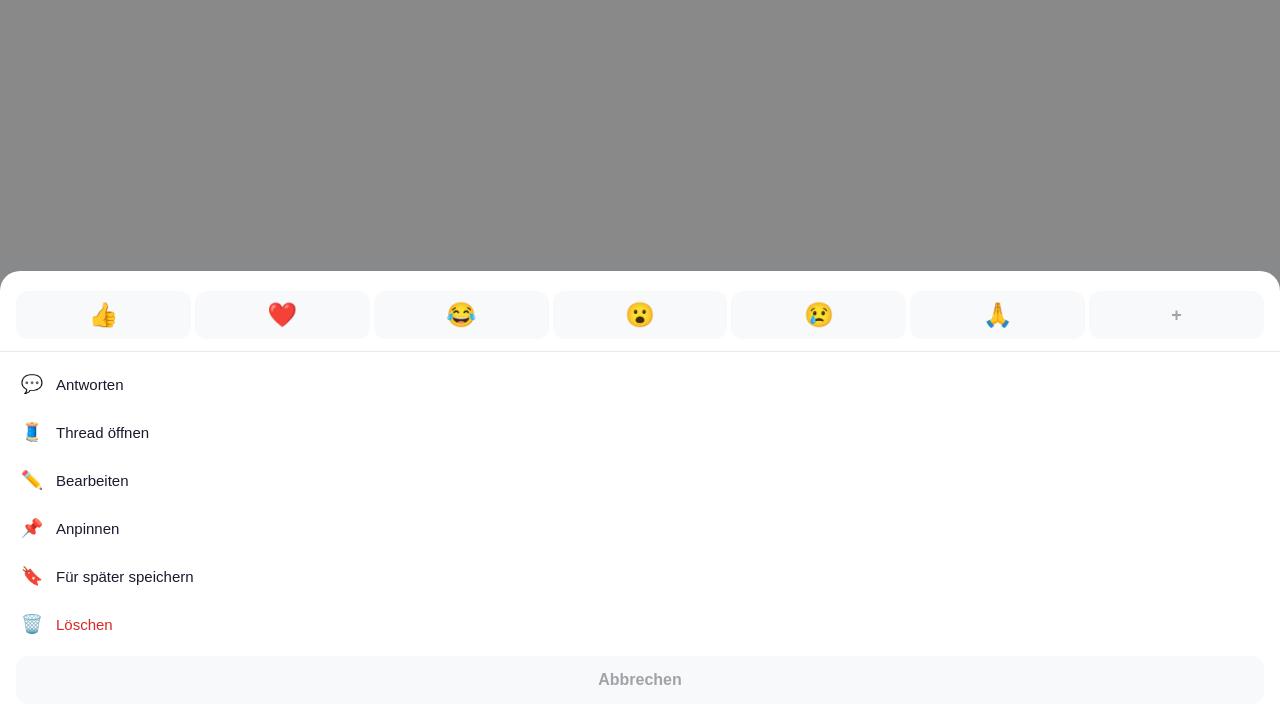
Test case: MobileMessageMenu — delete confirmation › shows inline confirm when delete is clicked
What coordinates should you click on to do the following:
click the button "🗑️ Löschen"
I would click on:
 (84, 624)
Its box is [8,600,1272,648].
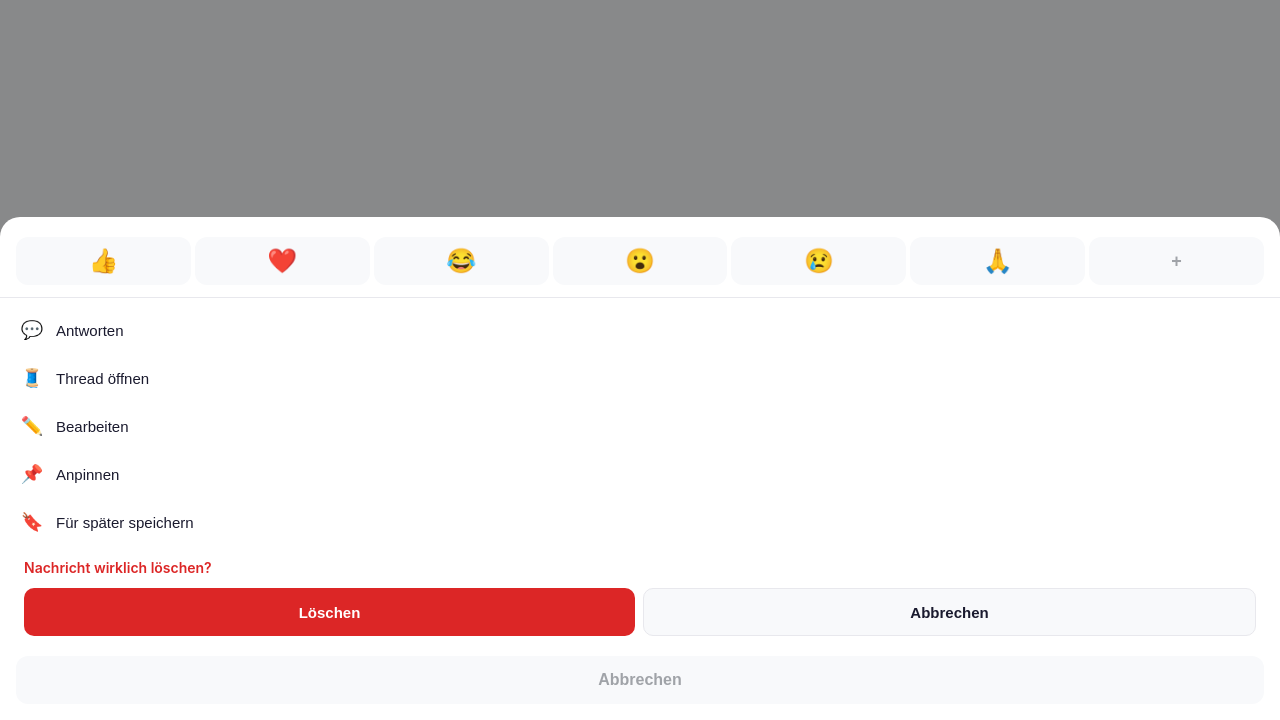
Expected: the text "Nachricht wirklich löschen?" is shown, [24,559,212,576]
